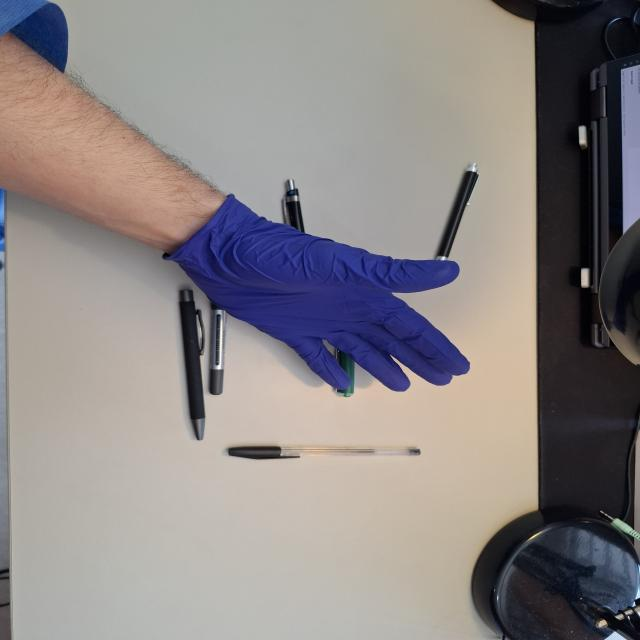glove_on: (160, 194, 472, 392)
